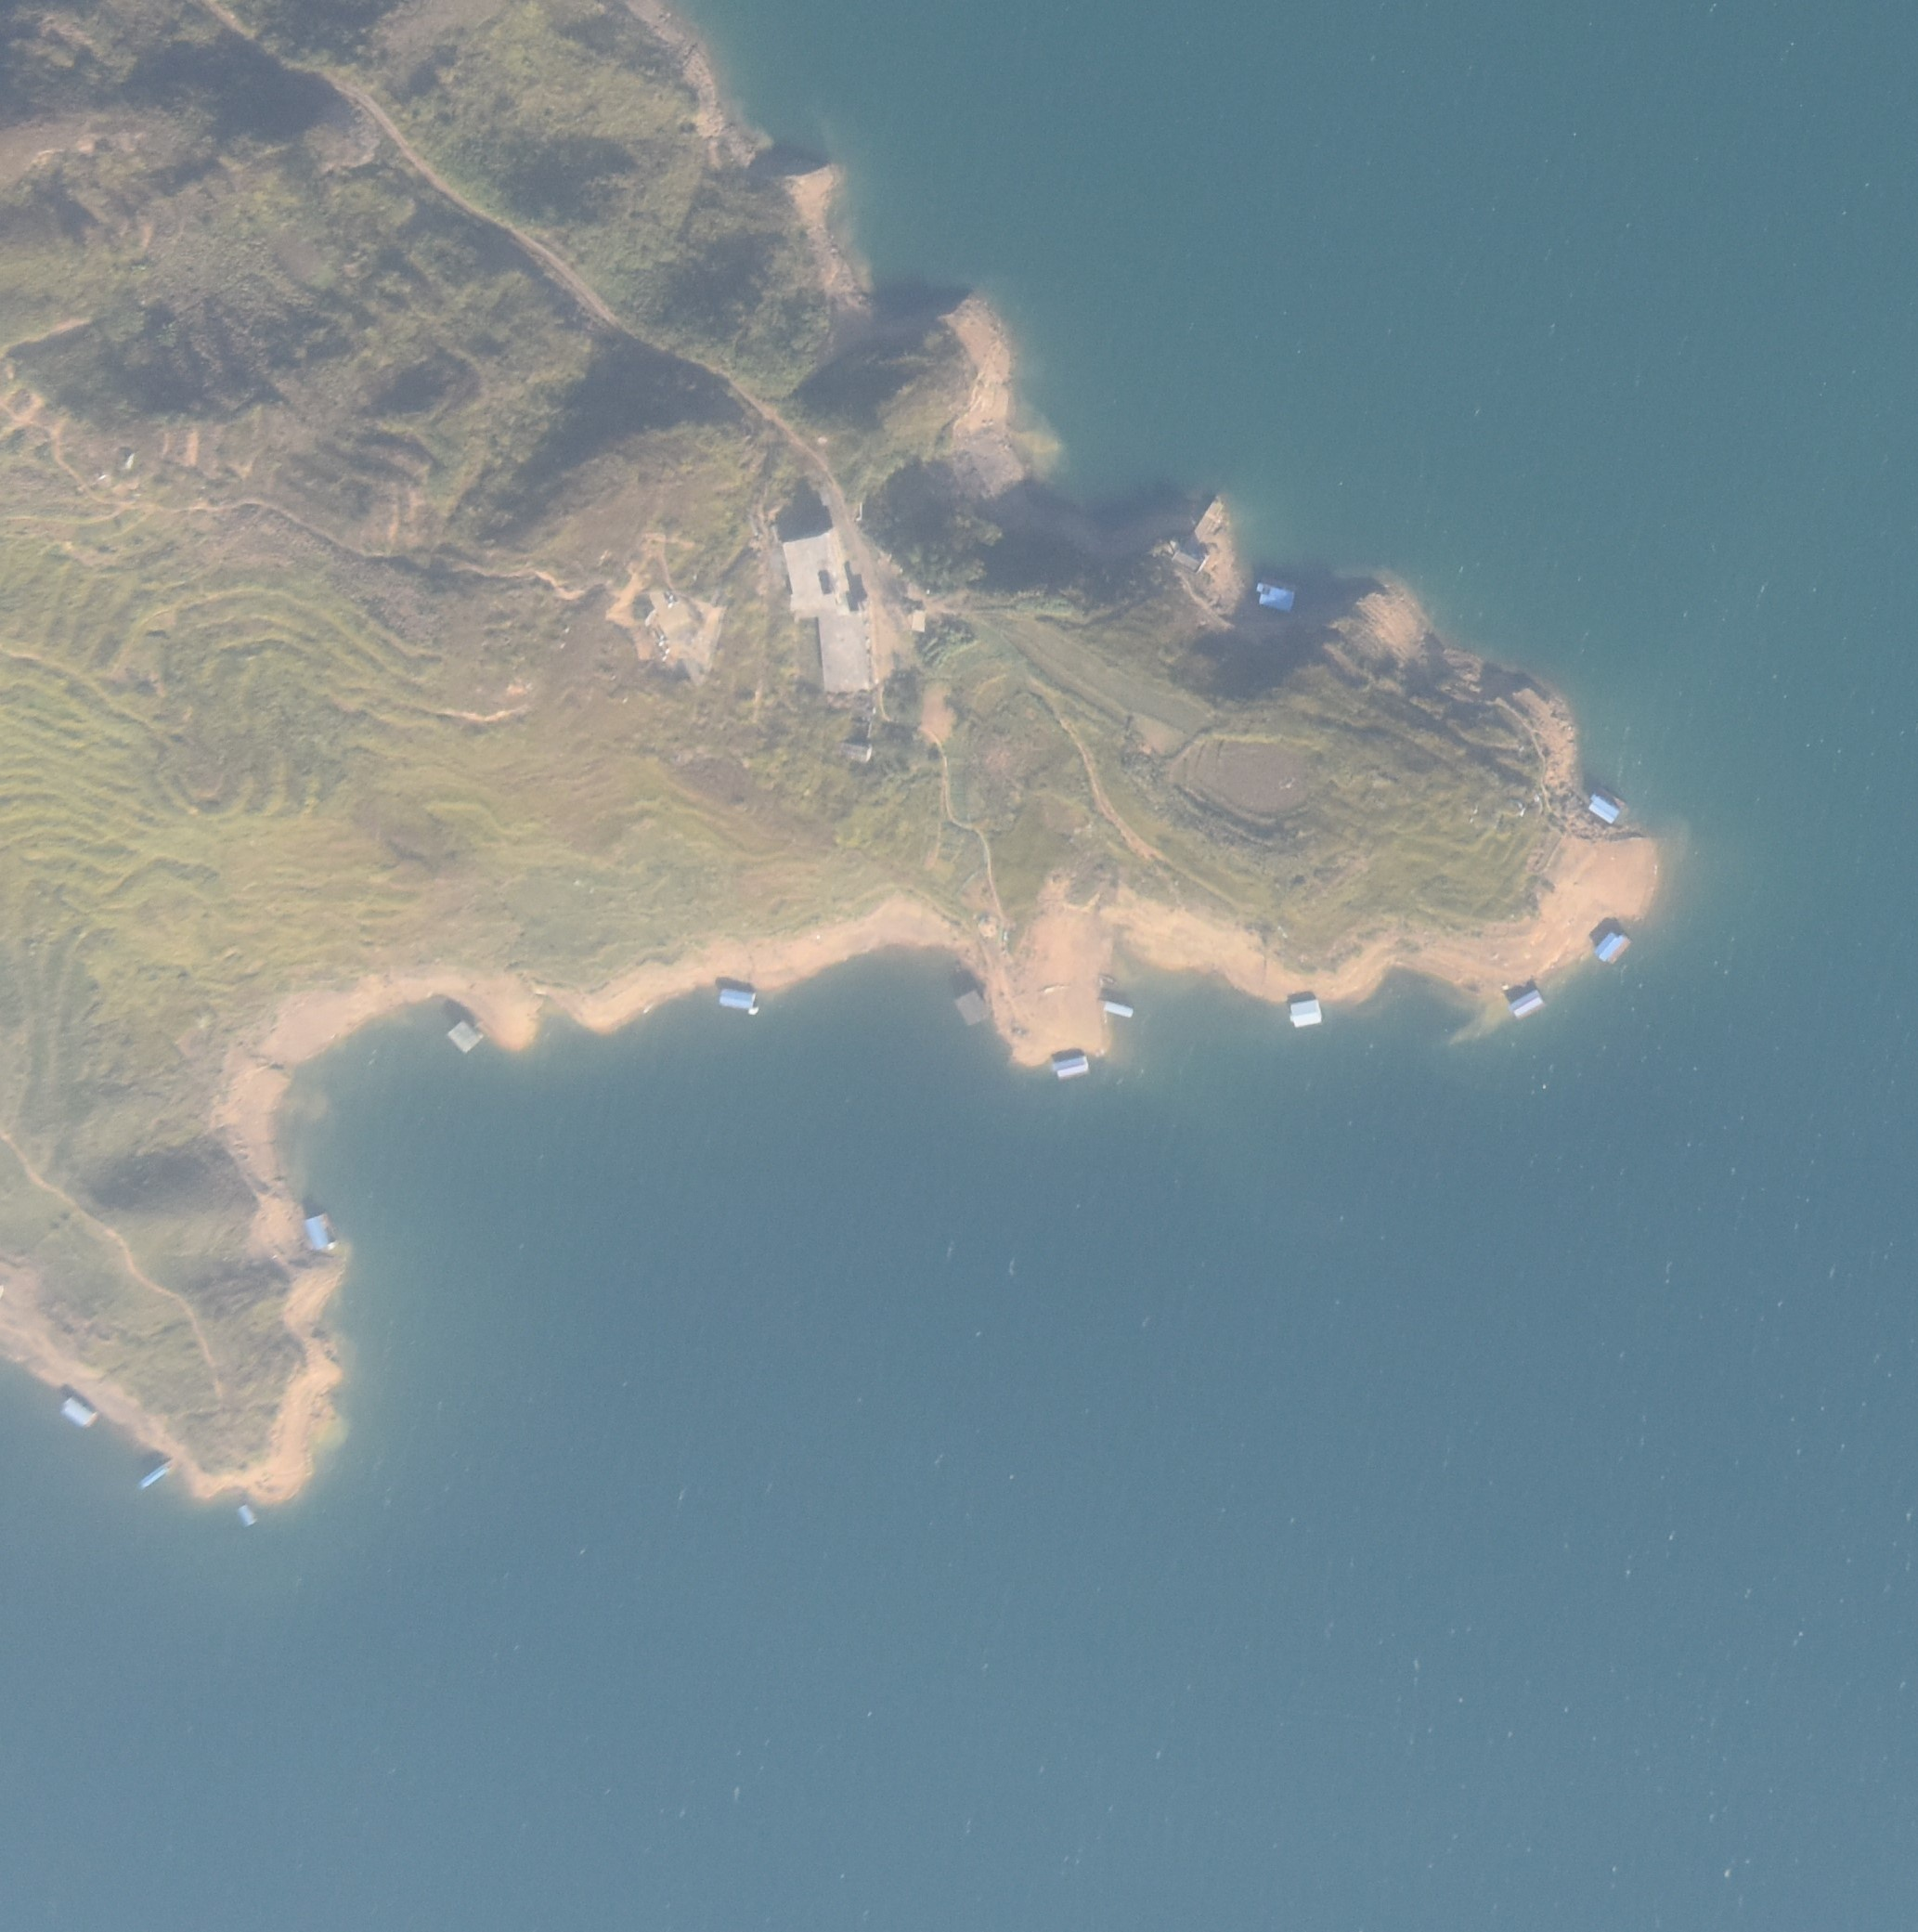building: (782, 530, 843, 615), (815, 609, 875, 696), (643, 581, 696, 655), (1186, 495, 1228, 550), (834, 717, 873, 766), (1170, 544, 1205, 573), (912, 609, 929, 632)
prefabricated-house: (1254, 576, 1298, 615), (952, 989, 994, 1027), (1591, 929, 1632, 964), (299, 1212, 337, 1247), (448, 1019, 487, 1054), (60, 1393, 98, 1426), (1588, 790, 1623, 825), (718, 984, 759, 1013), (1509, 991, 1546, 1020), (1291, 996, 1323, 1029), (1052, 1054, 1087, 1078), (235, 1500, 256, 1528)
ship: (141, 1456, 184, 1491), (1098, 970, 1129, 999), (1096, 996, 1136, 1019)
